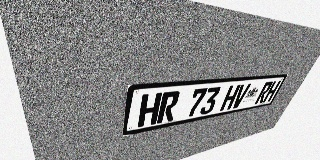3: (199, 87, 221, 115)
7: (185, 88, 208, 118)
H: (137, 92, 162, 127), (219, 85, 241, 111), (262, 81, 281, 103)
R: (156, 91, 181, 124), (254, 81, 274, 104)
V: (230, 84, 251, 109)
